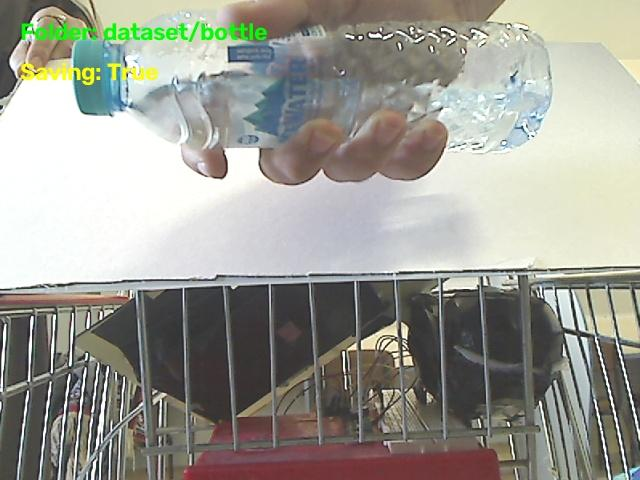Bottle: (73, 11, 550, 149)
